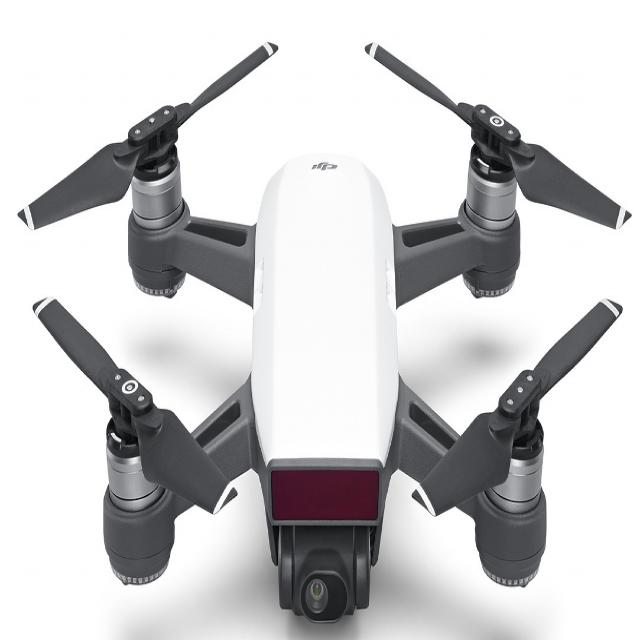drone: (11, 8, 628, 630)
